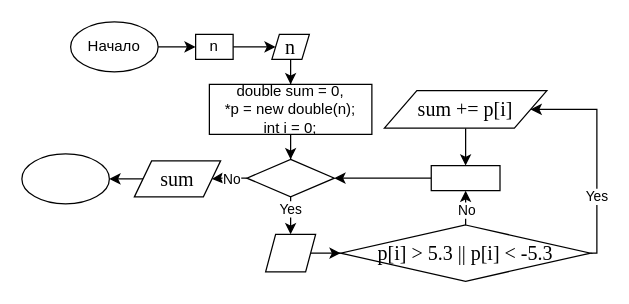
Image size: 629x304. Some labels were removed from this diagram. The shapes that lost their labels are listed below. From the top down, each one's box as (x1, y1, x2, y2) in pixels, then its label:
(21, 153, 109, 204): Конец
(246, 158, 334, 197): i < n
(430, 164, 500, 191): i++
(264, 233, 316, 272): p[i]
